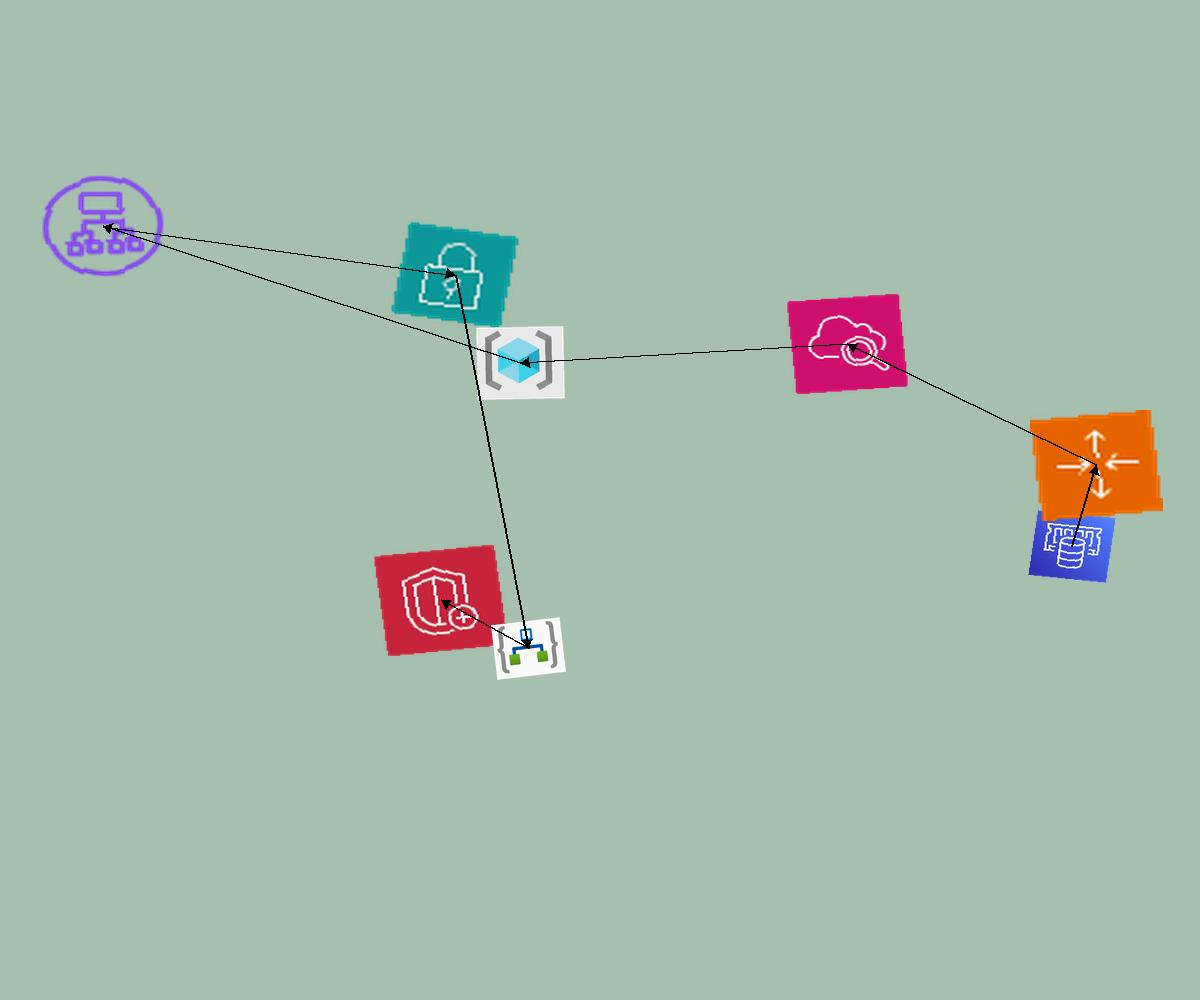AWS-CloudWatch: (786, 293, 909, 395)
AWS-ElastiCache: (1028, 510, 1116, 583)
AWS-Private-subnet: (389, 220, 521, 330)
AWS-Res_Elastic-Load-Balancing_Application-Load-Balancer: (32, 167, 174, 285)
AWS-Scaling-group: (1030, 410, 1163, 521)
AWS-Shield: (373, 544, 509, 657)
Azure_integration-204-Logic-Apps: (491, 617, 566, 680)
Azure_resource_group: (476, 326, 565, 400)
